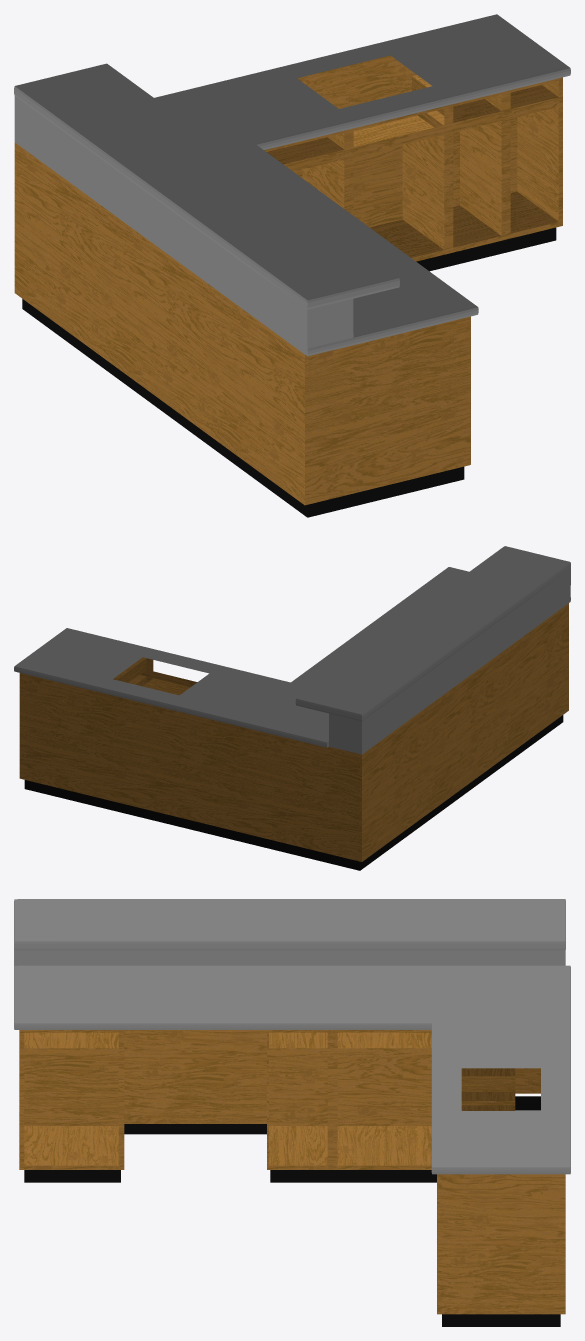
Rendered from StandardCounterHeightWidth(2)_e4697e5a.obj.
The picture shows the model from 3 angles, top to bottom: view 1: azimuth 30°, elevation 25°; view 2: azimuth 150°, elevation 25°; view 3: azimuth 270°, elevation 25°; orthographic projection. The views are drawn at different scales.
Parts seen in each view (by area): view 1: StandardCounterHeightWidth_(2)_e4697e5a; view 2: StandardCounterHeightWidth_(2)_e4697e5a; view 3: StandardCounterHeightWidth_(2)_e4697e5a.
Part boxes in pixels (x1=…): StandardCounterHeightWidth_(2)_e4697e5a: x1=14, y1=14, x2=570, y2=517; StandardCounterHeightWidth_(2)_e4697e5a: x1=14, y1=546, x2=570, y2=870; StandardCounterHeightWidth_(2)_e4697e5a: x1=14, y1=899, x2=570, y2=1326.
Bounding box in the file's own units: 2.63 × 1.15 × 2.77.
